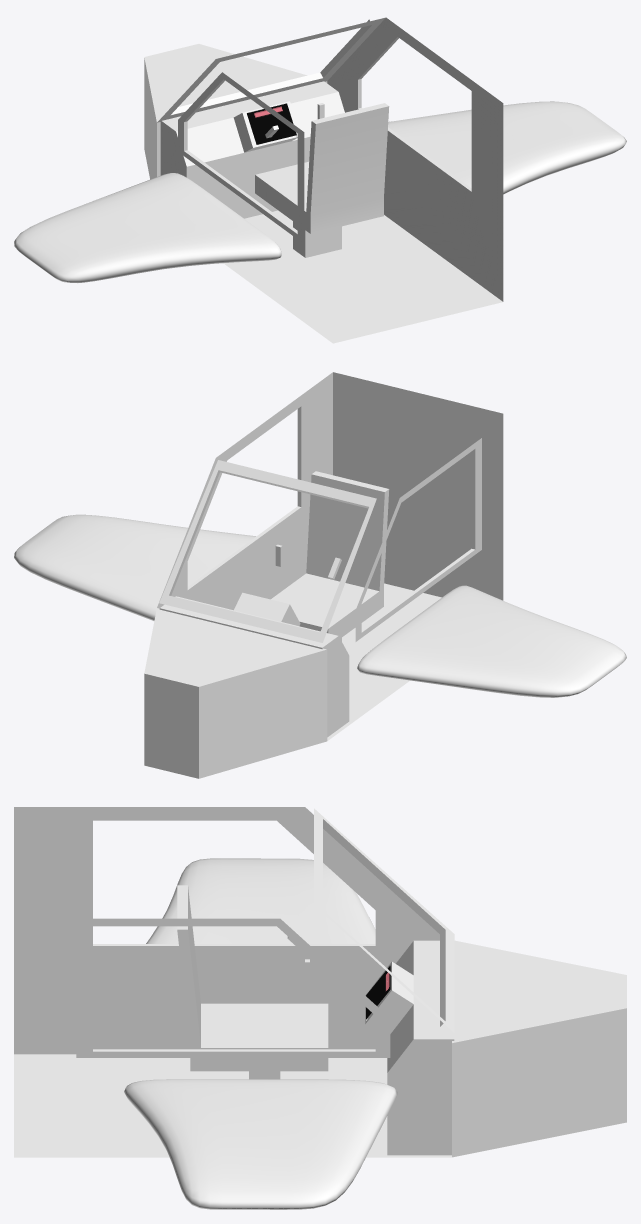
The model's file is ship.gltf.
The picture shows the model from 3 angles, top to bottom: view 1: azimuth 30°, elevation 25°; view 2: azimuth 150°, elevation 25°; view 3: azimuth 270°, elevation 25°; orthographic projection. The views are drawn at different scales.
Parts seen in each view (by area): view 1: Cube_002, Cube, Cube_001, Console, Screen; view 2: Cube_002, Cube, Cube_001, Console; view 3: Cube_002, Cube, Console, Cube_001.
Boxes of the visible parts, x1,y1,x2,y2 form: Cube_002: (144,17,503,343); Cube: (14,101,626,283); Cube_001: (255,103,389,257); Console: (160,81,344,218); Screen: (247,103,296,144); Cube_002: (144,372,503,778); Cube: (14,514,626,697); Cube_001: (271,471,389,641); Console: (159,592,349,737); Cube_002: (14,807,626,1157); Cube: (124,858,397,1209); Console: (365,940,454,1155); Cube_001: (177,885,328,1079).
Size of what is drawn, in the model's own units: 5.66 by 1.93 by 4.23.
Materials: 8 (1 with a texture image).
